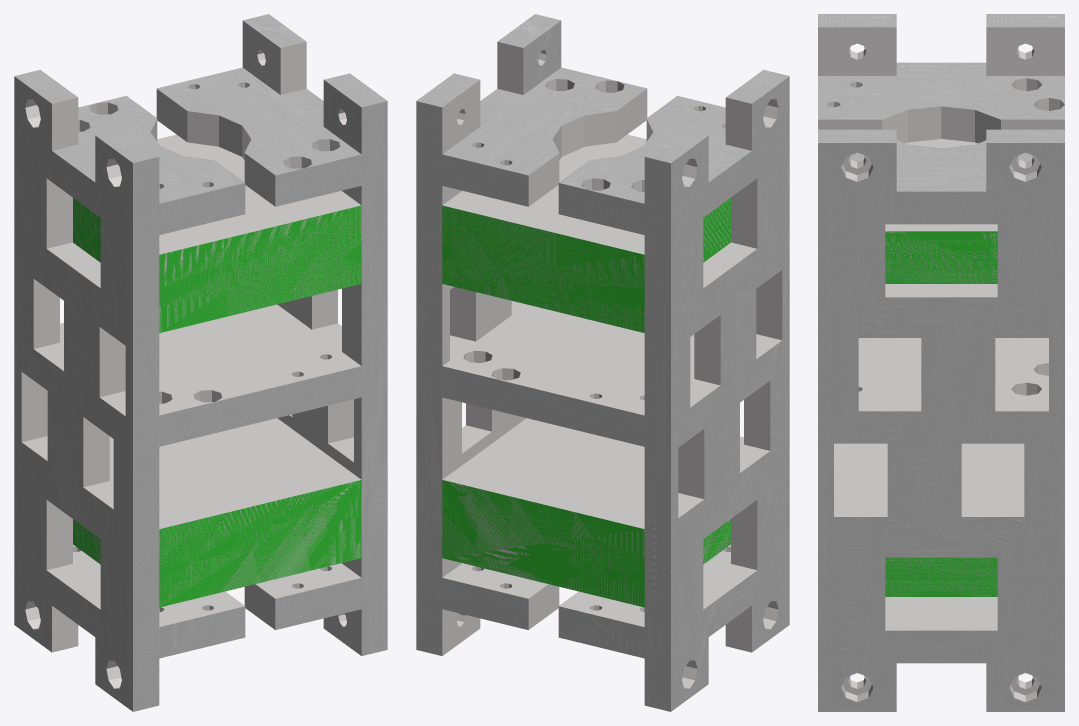
3 views of the same model, side by side, from view 1: azimuth 30°, elevation 25°; view 2: azimuth 150°, elevation 25°; view 3: azimuth 270°, elevation 25° (orthographic). The views are drawn at different scales.
Visible parts, largest first — view 1: skpF15 (×8); view 2: skpF15 (×9); view 3: skpF15 (×12).
Part boxes in pixels (x1,y1,x2,y2): skpF15 (×8): (14, 14, 387, 711); skpF15 (×9): (416, 14, 789, 711); skpF15 (×12): (818, 14, 1064, 711).
Bounding box in the file's own units: 2.68 × 2.17 × 5.51.
